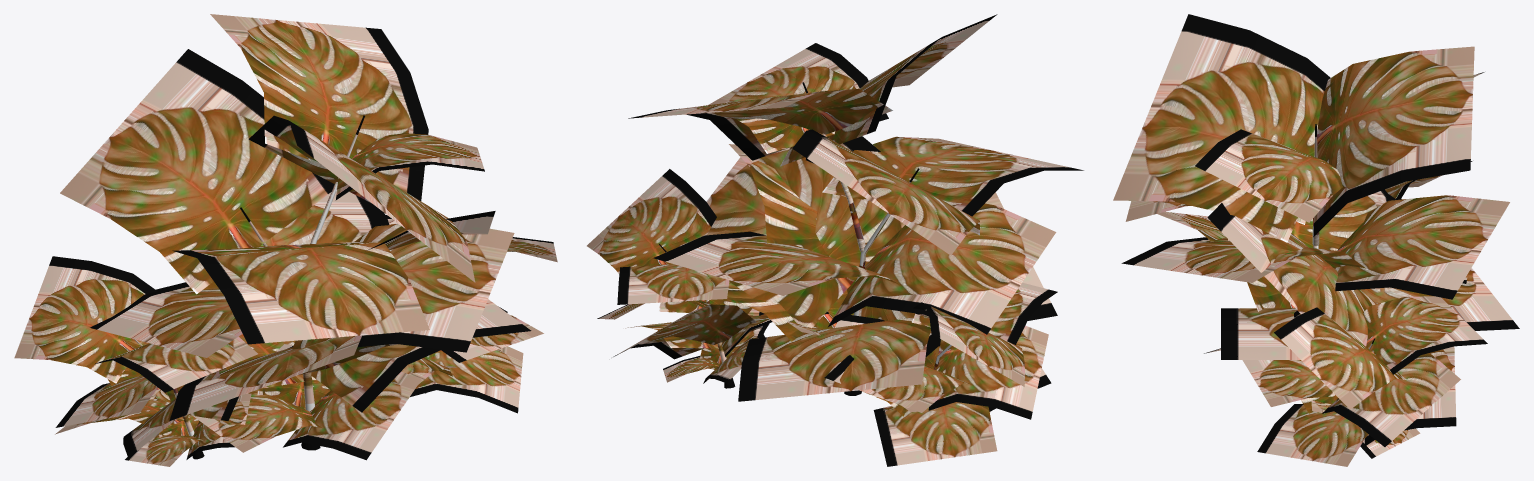
Rendered from plante_1_3.FBX.
3 renders of one model, left to right at view 1: azimuth 30°, elevation 25°; view 2: azimuth 150°, elevation 25°; view 3: azimuth 270°, elevation 25°, orthographic. The views are drawn at different scales.
Parts seen in each view (by area): view 1: Cylinder010; view 2: Cylinder010; view 3: Cylinder010.
Boxes of the visible parts, <box> form: Cylinder010: <box>14,14,557,466</box>; Cylinder010: <box>587,14,1083,466</box>; Cylinder010: <box>1113,14,1519,466</box>.
Bounding box in the file's own units: 350 × 248 × 270.
1 material, 1 textured.
